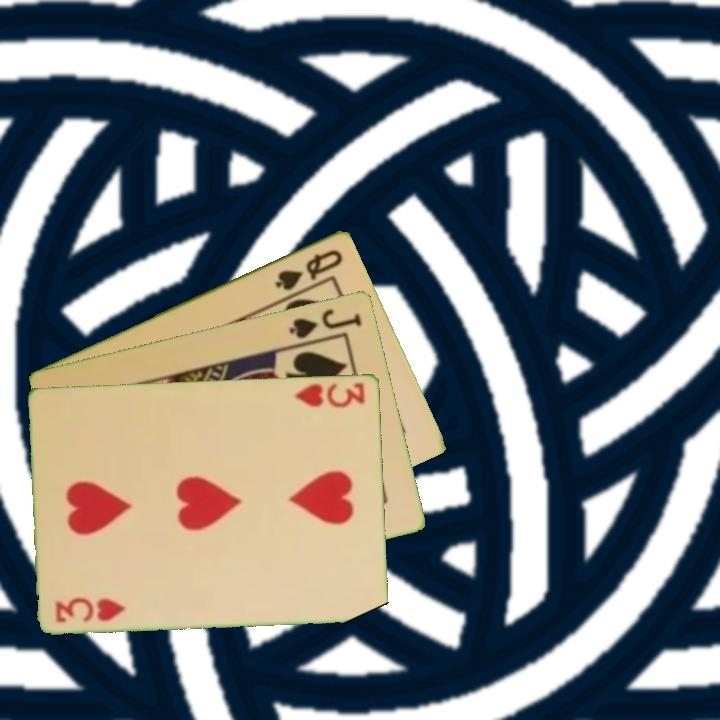3h: (291, 378, 369, 410), (52, 594, 129, 625)
Js: (285, 304, 365, 341)
Qs: (271, 245, 347, 293)
